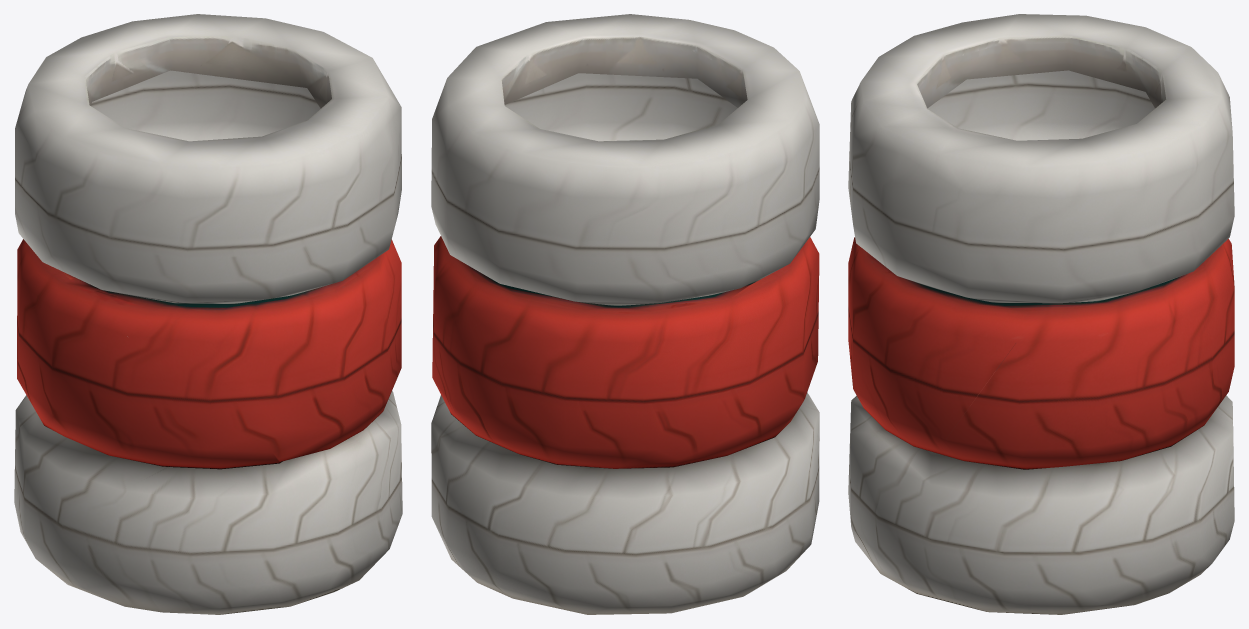
File: tire_stack_3d_model.fbx
3 views of the same model, side by side, from view 1: azimuth 30°, elevation 25°; view 2: azimuth 150°, elevation 25°; view 3: azimuth 270°, elevation 25° (orthographic).
Parts seen in each view (by area): view 1: tripo_node_b1226e5b; view 2: tripo_node_b1226e5b; view 3: tripo_node_b1226e5b.
Boxes of the visible parts, box(x1,y1,x2,y2) form: tripo_node_b1226e5b: box(14, 14, 402, 614); tripo_node_b1226e5b: box(431, 14, 819, 614); tripo_node_b1226e5b: box(848, 14, 1234, 614).
Size of the model in its own units: 0.7754 by 0.998 by 0.7715.
